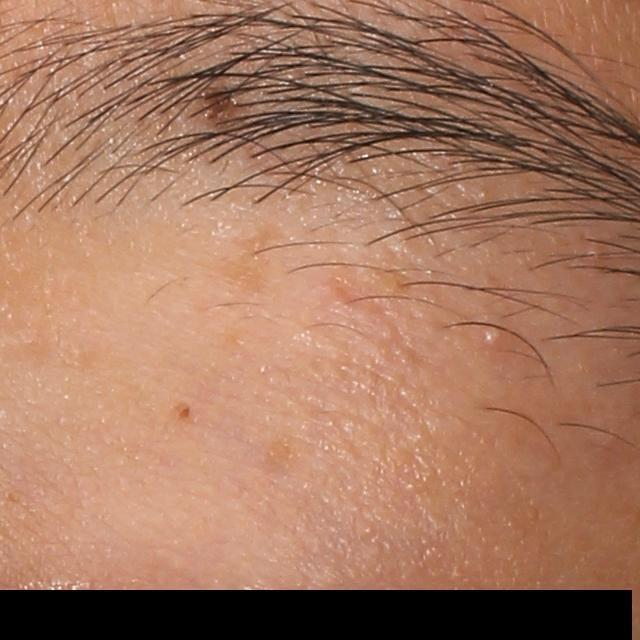melasma: (216, 219, 291, 301), (257, 435, 309, 474)
